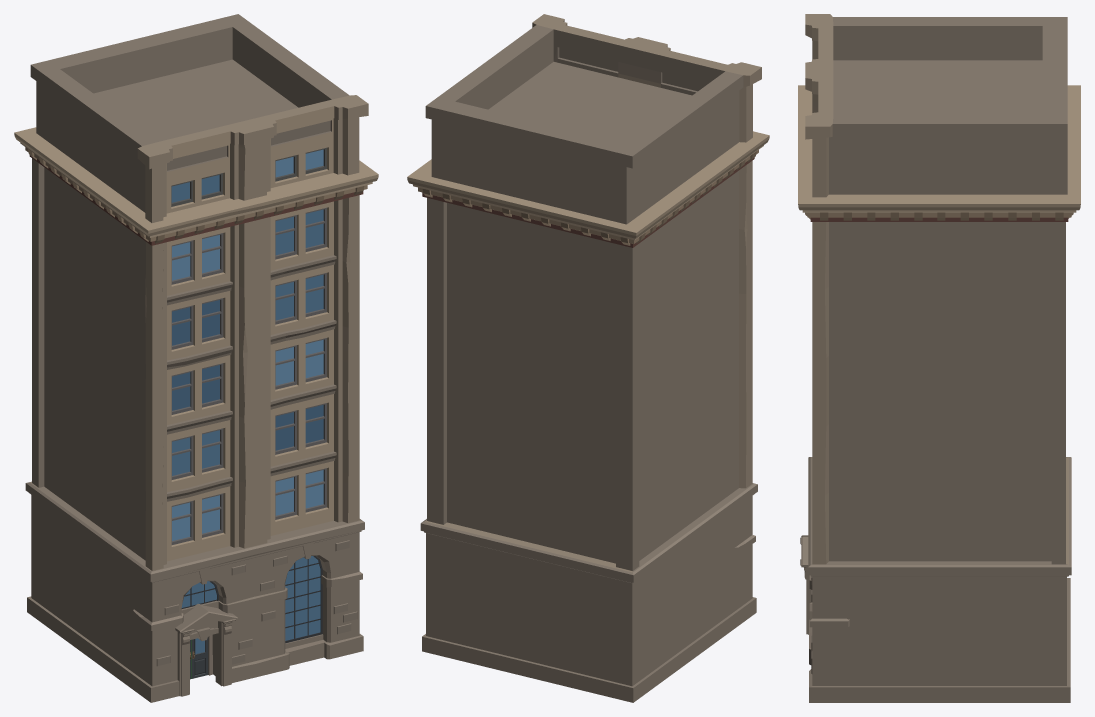
The model's file is SM_Bld_OfficeOld_Small_02.glb.
The picture shows the model from 3 angles, left to right: view 1: azimuth 30°, elevation 25°; view 2: azimuth 150°, elevation 25°; view 3: azimuth 270°, elevation 25°; orthographic projection. The views are drawn at different scales.
Visible parts, largest first — view 1: SM_Bld_OfficeOld_Small_02; view 2: SM_Bld_OfficeOld_Small_02; view 3: SM_Bld_OfficeOld_Small_02.
Boxes of the visible parts, x1=… form: SM_Bld_OfficeOld_Small_02: x1=14, y1=14, x2=378, y2=702; SM_Bld_OfficeOld_Small_02: x1=407, y1=14, x2=769, y2=702; SM_Bld_OfficeOld_Small_02: x1=798, y1=14, x2=1080, y2=702.
Size of the model in its own units: 0.1112 by 0.2525 by 0.112.
Materials: 1 (1 with a texture image).
